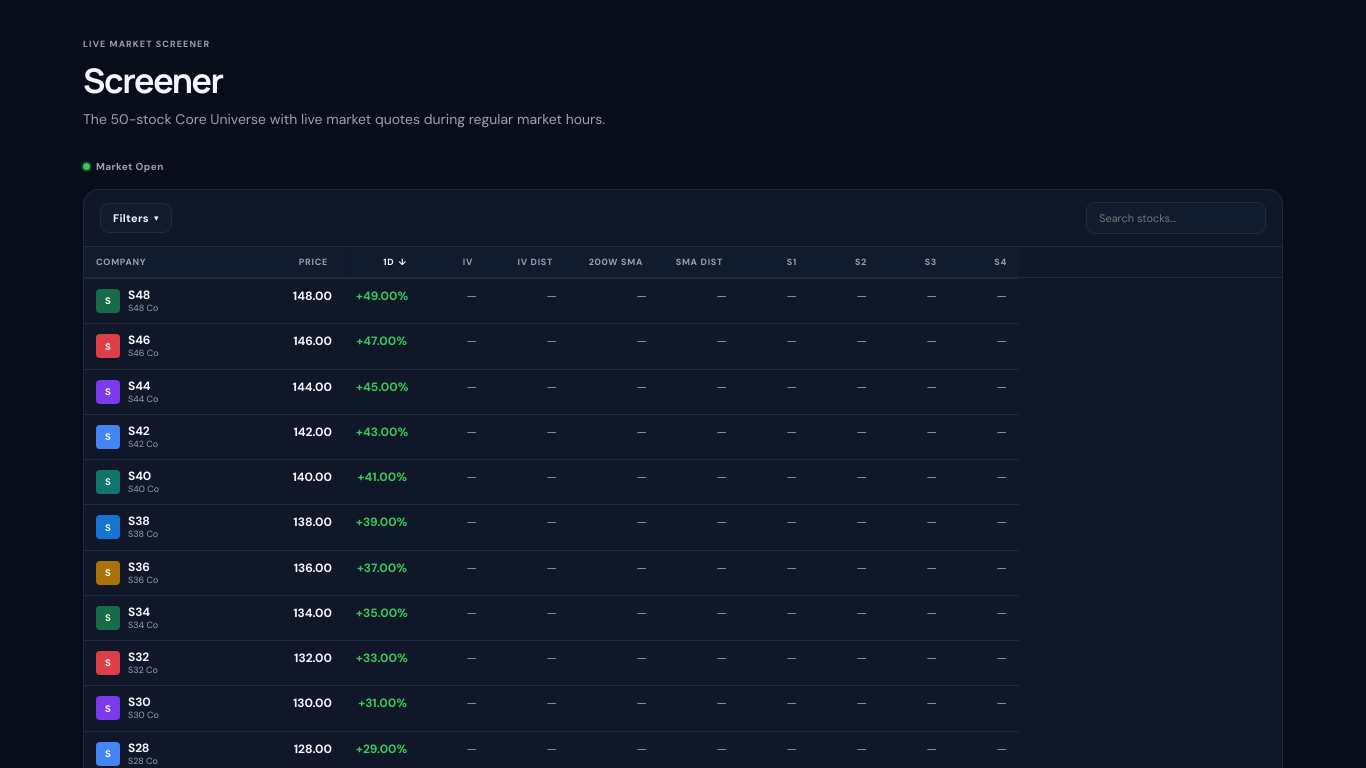
ScreenerPage › C) click X → filter returns to All
Click the button "Filters ▾" at (136, 218), box [100,203,172,233]
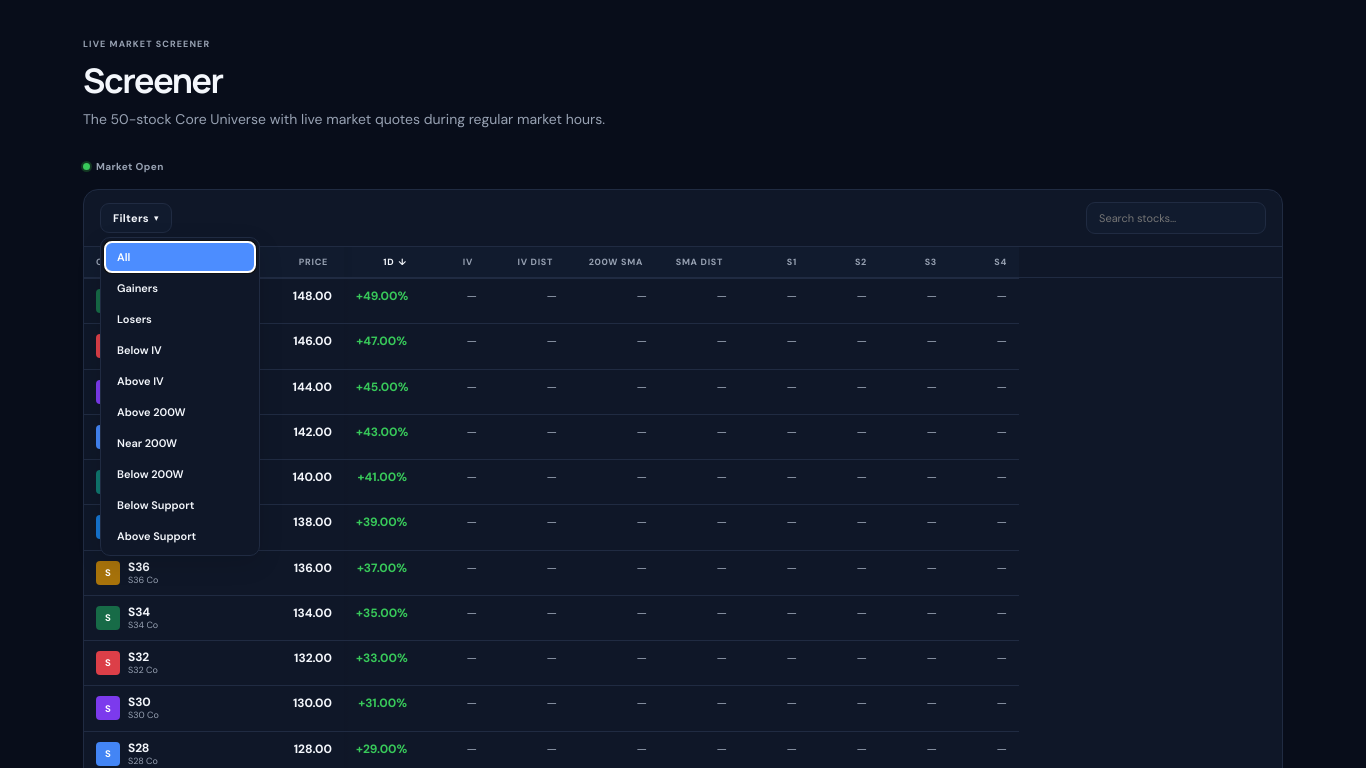
Click the menu item "Gainers" at (180, 288), box [105,273,255,303]
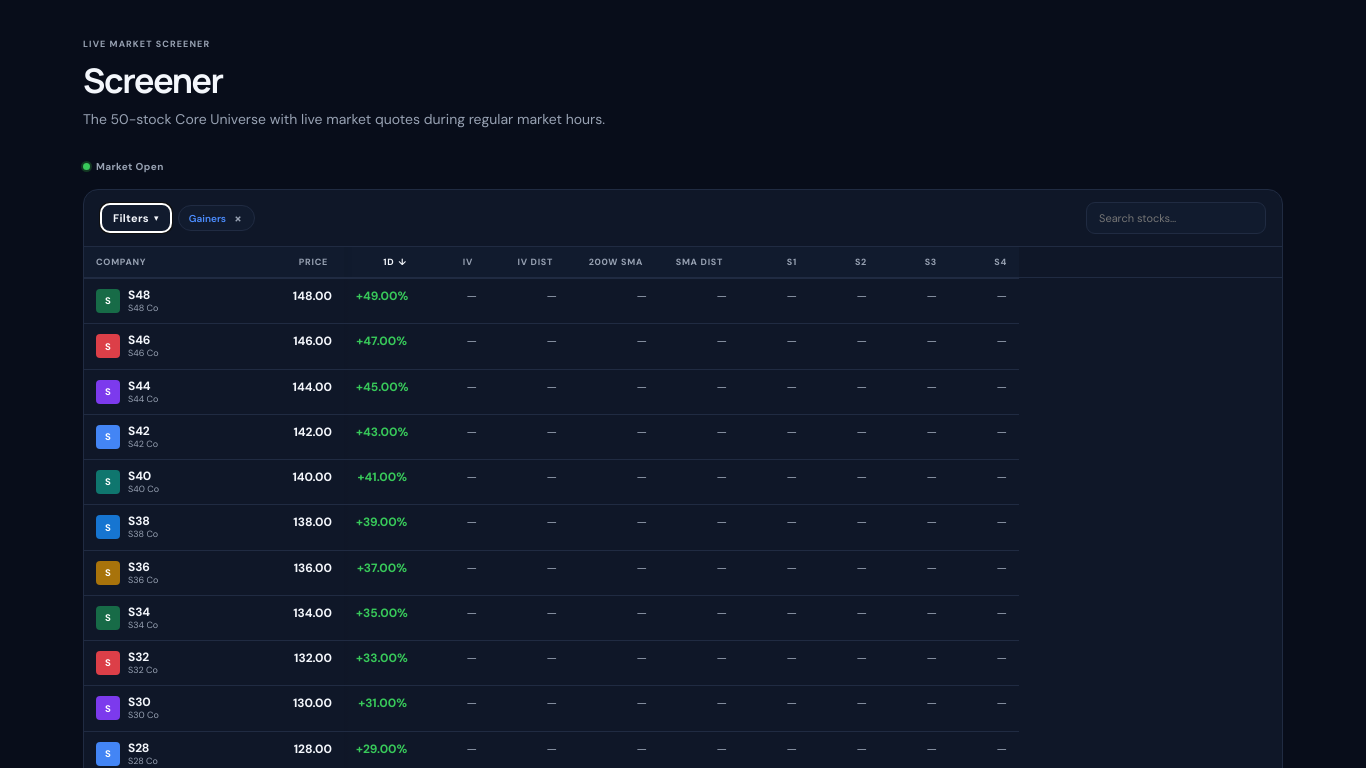
Result: the text "Gainers" is shown at [189,212,226,225]
Click the button named "Clear Gainers filter" at (238, 218), box [230,210,246,226]
(page scrolled)
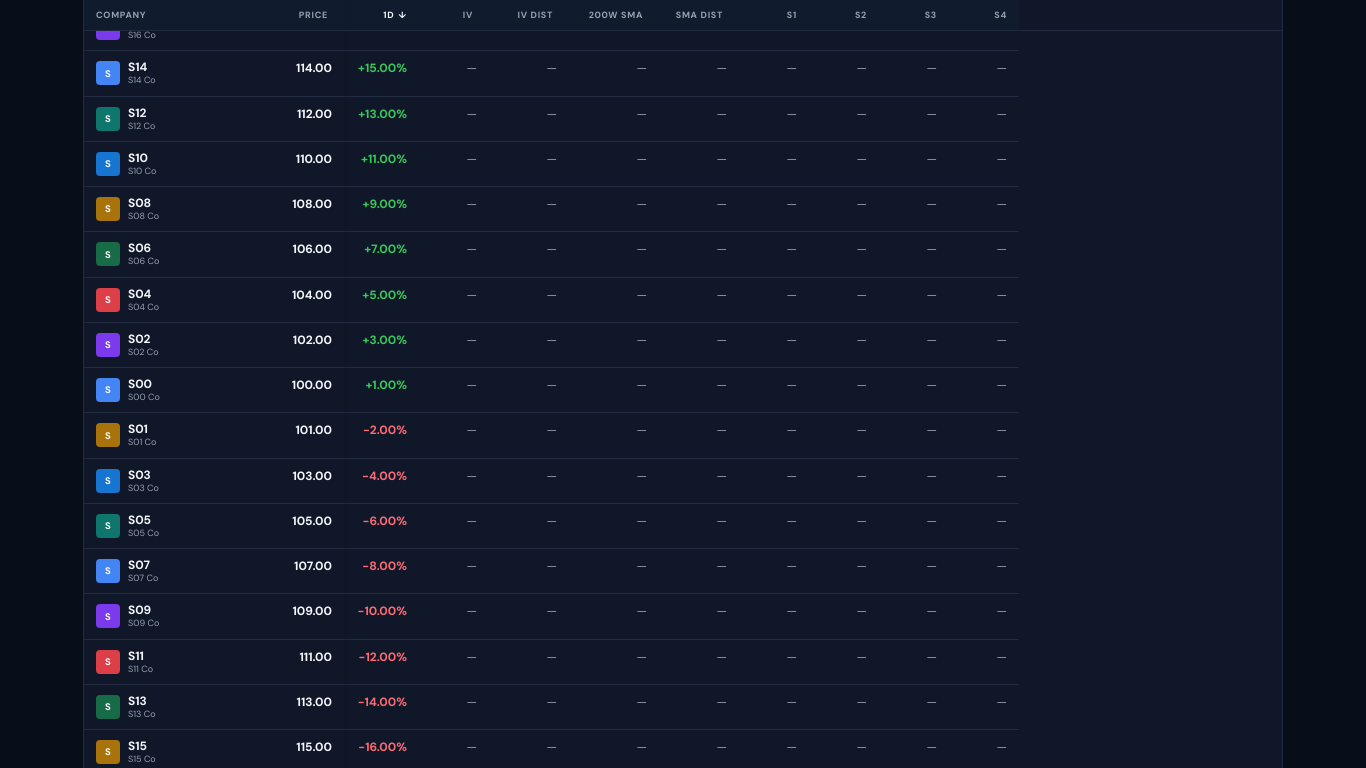
Expected: the text "S00" is shown, [128,377,152,392]
Result: the text "Gainers" is gone
Result: the text "S01" is shown at [128,422,148,437]
